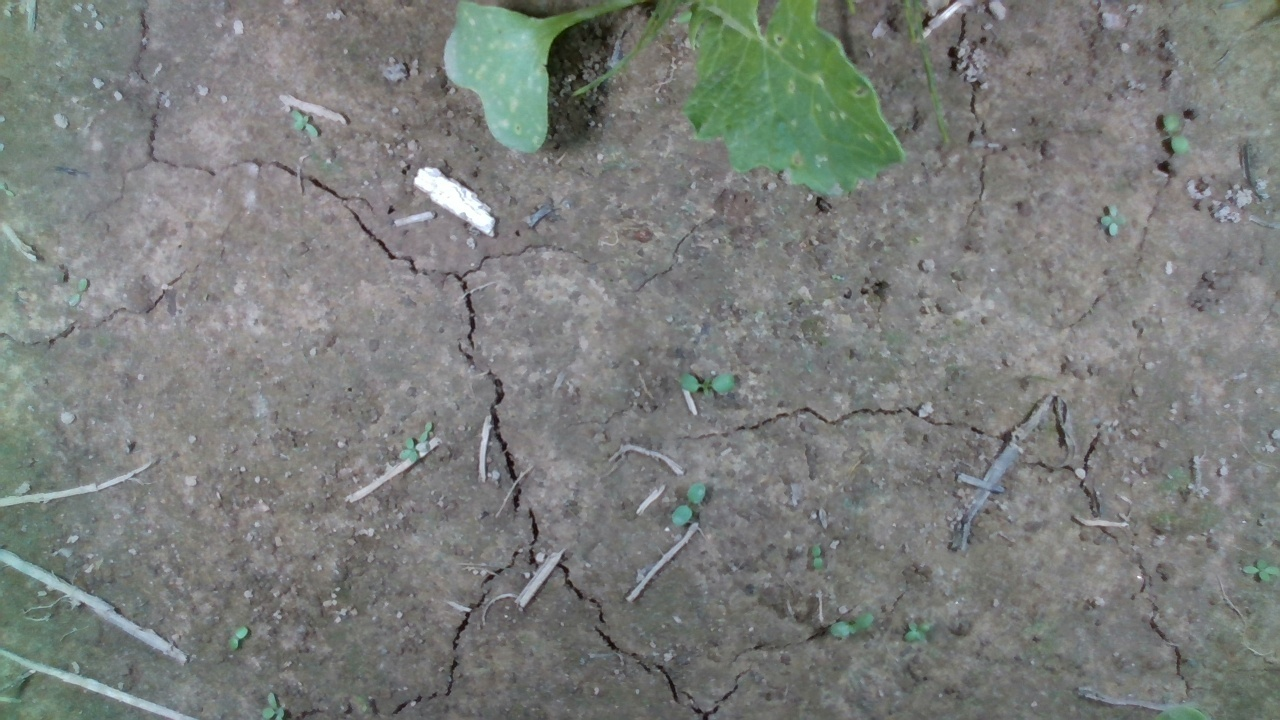weed: (671, 482, 707, 527), (678, 371, 735, 395), (829, 611, 874, 639), (1163, 110, 1191, 155), (1097, 201, 1126, 238), (1243, 557, 1279, 583), (290, 109, 319, 138), (68, 275, 88, 306), (225, 627, 248, 650), (811, 543, 824, 571)
